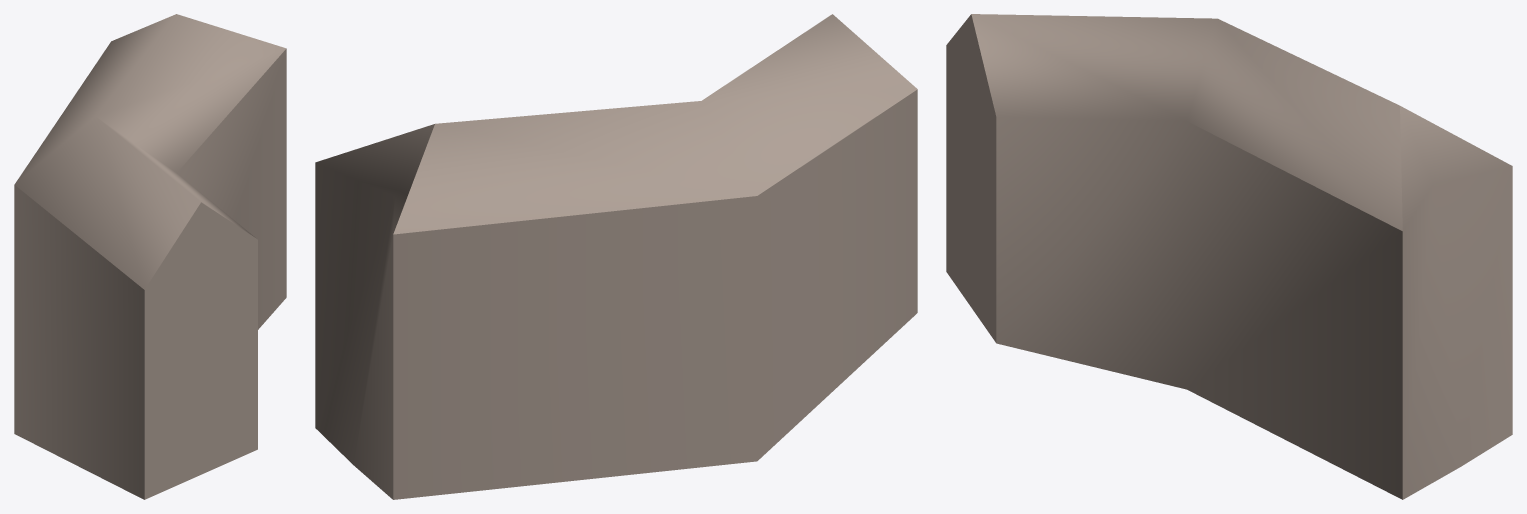
The model's file is Bulding_3.fbx.
3 renders of one model, left to right at view 1: azimuth 30°, elevation 25°; view 2: azimuth 150°, elevation 25°; view 3: azimuth 270°, elevation 25°, orthographic. The views are drawn at different scales.
Visible parts, largest first — view 1: pCube35; view 2: pCube35; view 3: pCube35.
Part boxes in pixels (x1,y1,x2,y2): pCube35: [14, 14, 286, 499]; pCube35: [315, 14, 917, 499]; pCube35: [946, 14, 1512, 499].
Size of the model in its own units: 5.18 by 4.36 by 6.67.
